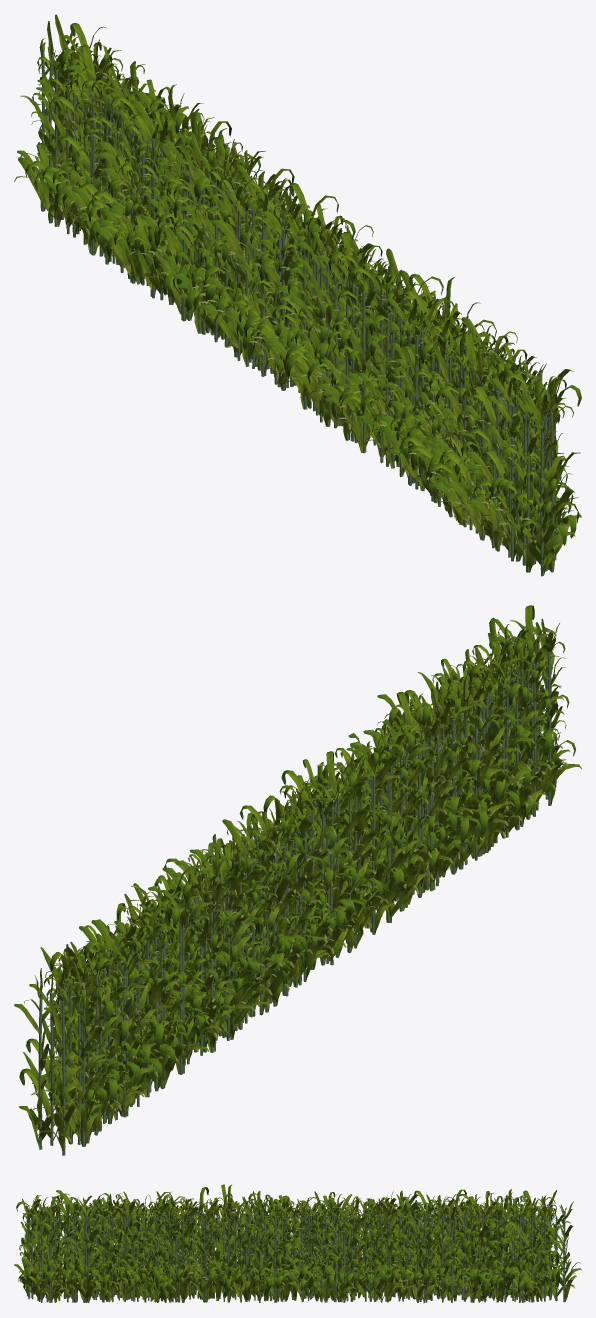
The model's file is milharal1x50_denso5.fbx.
The picture shows the model from 3 angles, top to bottom: view 1: azimuth 30°, elevation 25°; view 2: azimuth 150°, elevation 25°; view 3: azimuth 270°, elevation 25°; orthographic projection. The views are drawn at different scales.
Visible parts, largest first — view 1: Plantacao2; view 2: Plantacao2; view 3: Plantacao2.
Part boxes in pixels (left/top/right/bottom): Plantacao2: left=14, top=14, right=581, bottom=576; Plantacao2: left=14, top=605, right=581, bottom=1155; Plantacao2: left=14, top=1184, right=581, bottom=1303.
Bounding box in the file's own units: 596 × 1099 × 5285.
